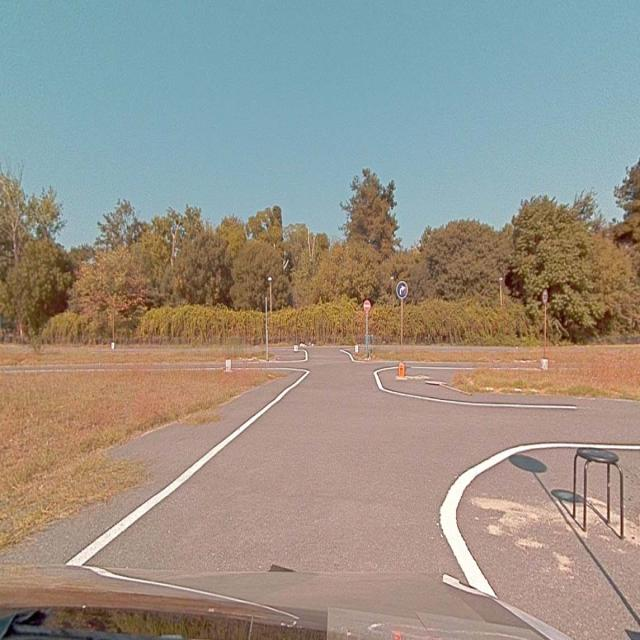girisyok: (362, 300, 370, 312)
sag: (396, 282, 408, 298)
